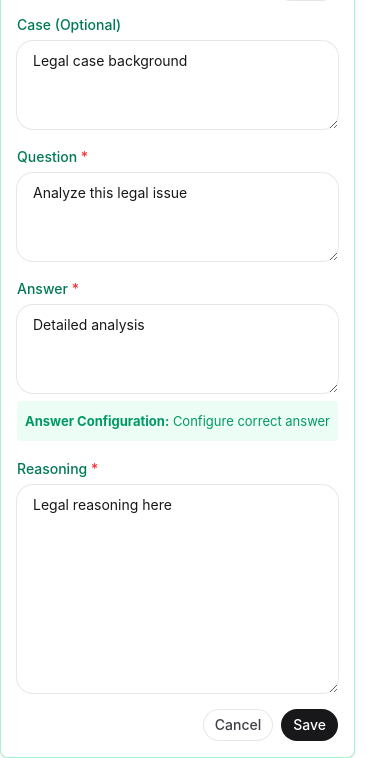
Test case: QuestionCard › QA Reasoning type questions › shows expanded view when isExpanded is true
This screenshot has width=372, height=758.
(page scrolled)
Save to view mode
Click the button "Save" at point(310, 725), box left=281, top=709, right=338, bottom=741
(page scrolled)
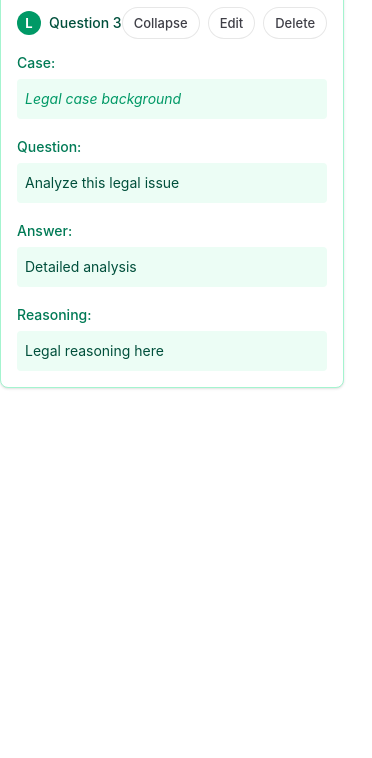
Check: the text "Case:" is shown, box left=17, top=54, right=55, bottom=71
Check: the text "Question:" is shown, box left=17, top=138, right=81, bottom=155
Check: the text "Answer:" is shown, box left=17, top=222, right=72, bottom=239
